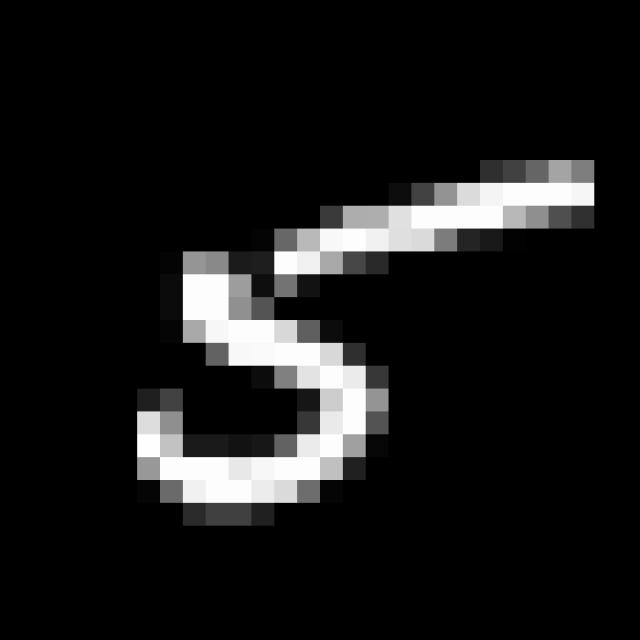five -5-: (110, 156, 607, 536)
